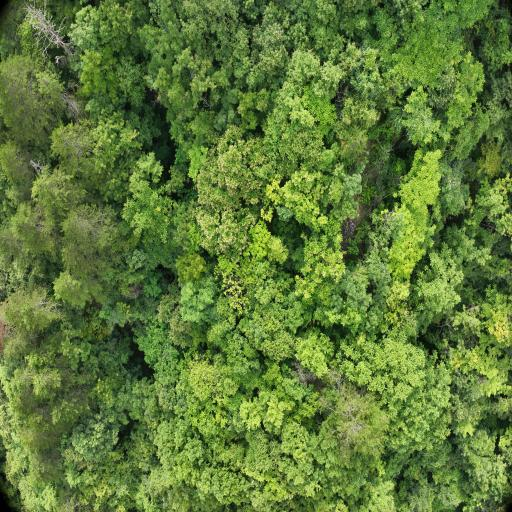dead-tree: (24, 6, 68, 53)
